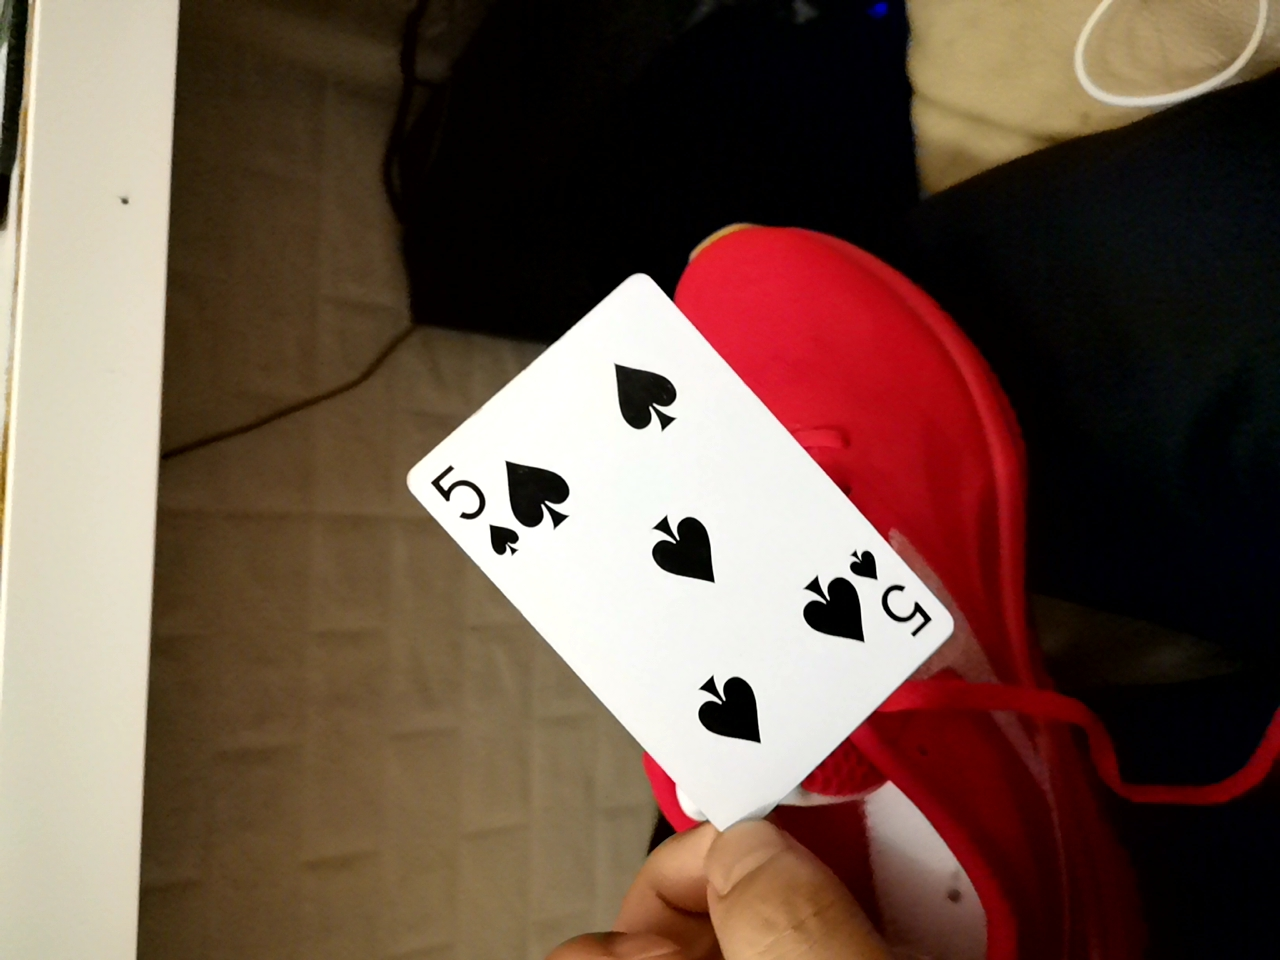ht 5: (393, 270, 961, 858)
